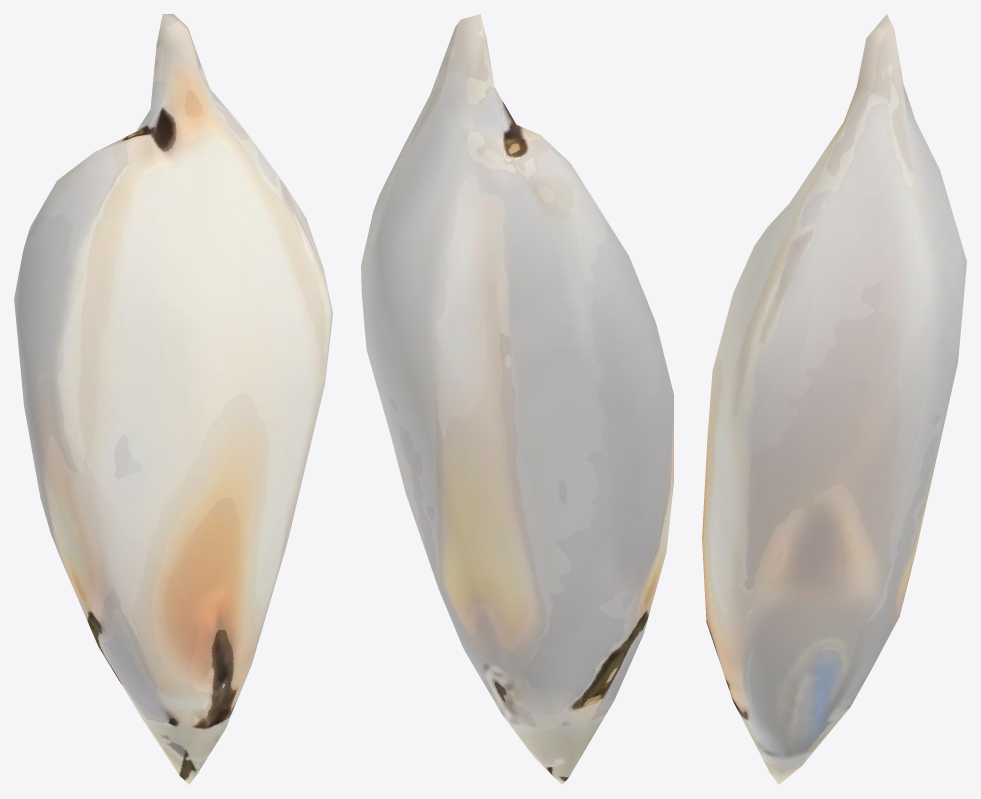
File: SconceFlame.glb
The picture shows the model from 3 angles, left to right: view 1: azimuth 30°, elevation 25°; view 2: azimuth 150°, elevation 25°; view 3: azimuth 270°, elevation 25°; orthographic projection. The views are drawn at different scales.
Parts seen in each view (by area): view 1: SconceFlame; view 2: SconceFlame; view 3: SconceFlame.
Boxes of the visible parts, x1,y1,x2,y2 form: SconceFlame: (14, 14, 332, 784); SconceFlame: (361, 14, 673, 784); SconceFlame: (702, 14, 966, 784).
Bounding box in the file's own units: 0.0318 × 0.0804 × 0.0246.
1 material, 1 textured.
